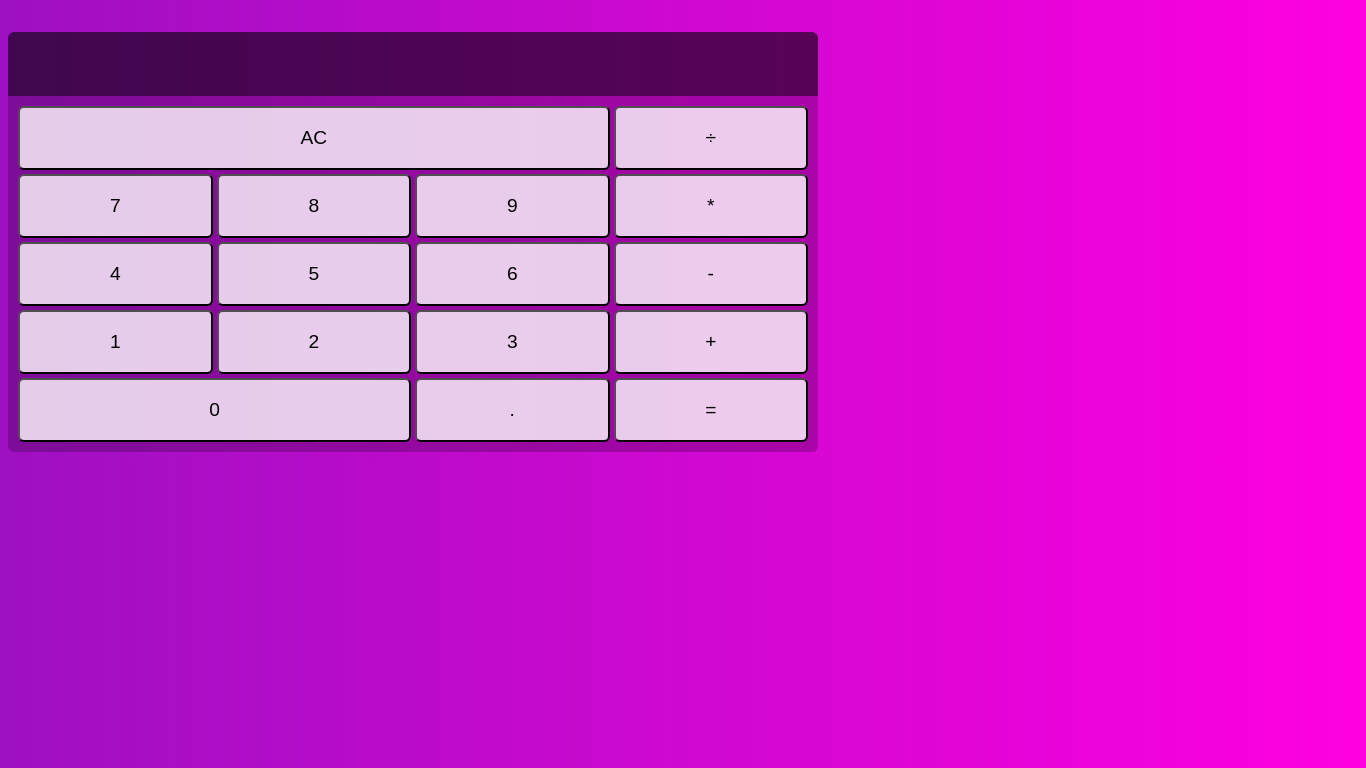
Calculator › selects the chosen function
Click the button "1". click: click(115, 342)
box: [18,310,212,374]
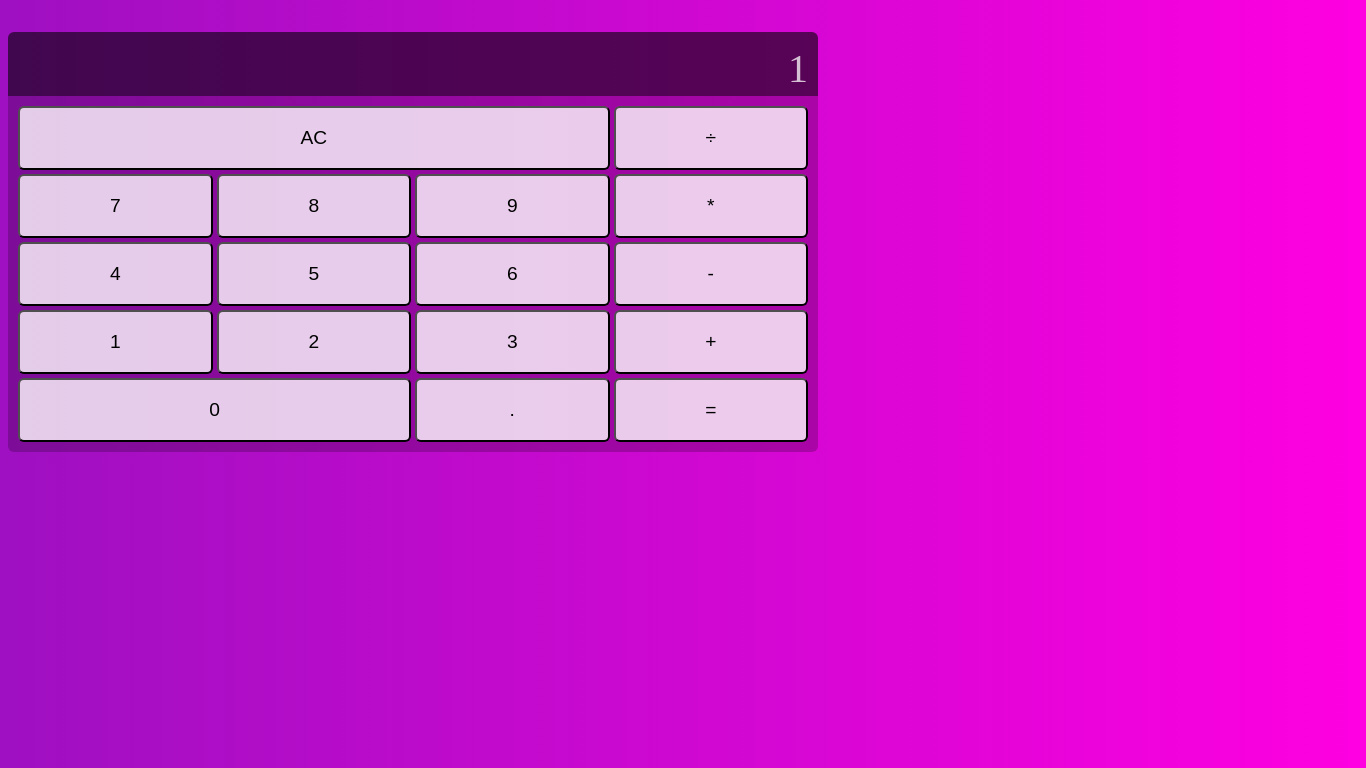
Click the button "+". click: click(711, 342)
box: [614,310,808,374]
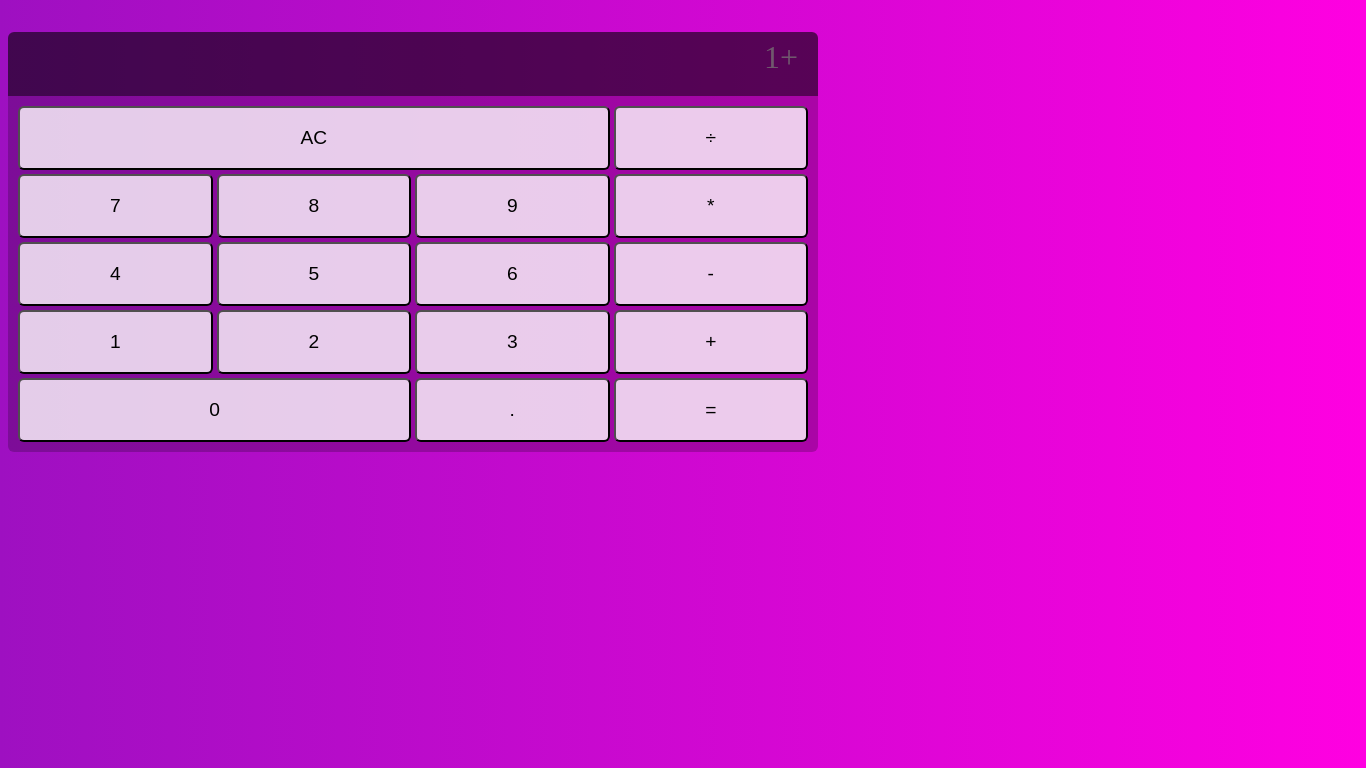
Click the button "1". click: click(115, 342)
box: [18,310,212,374]
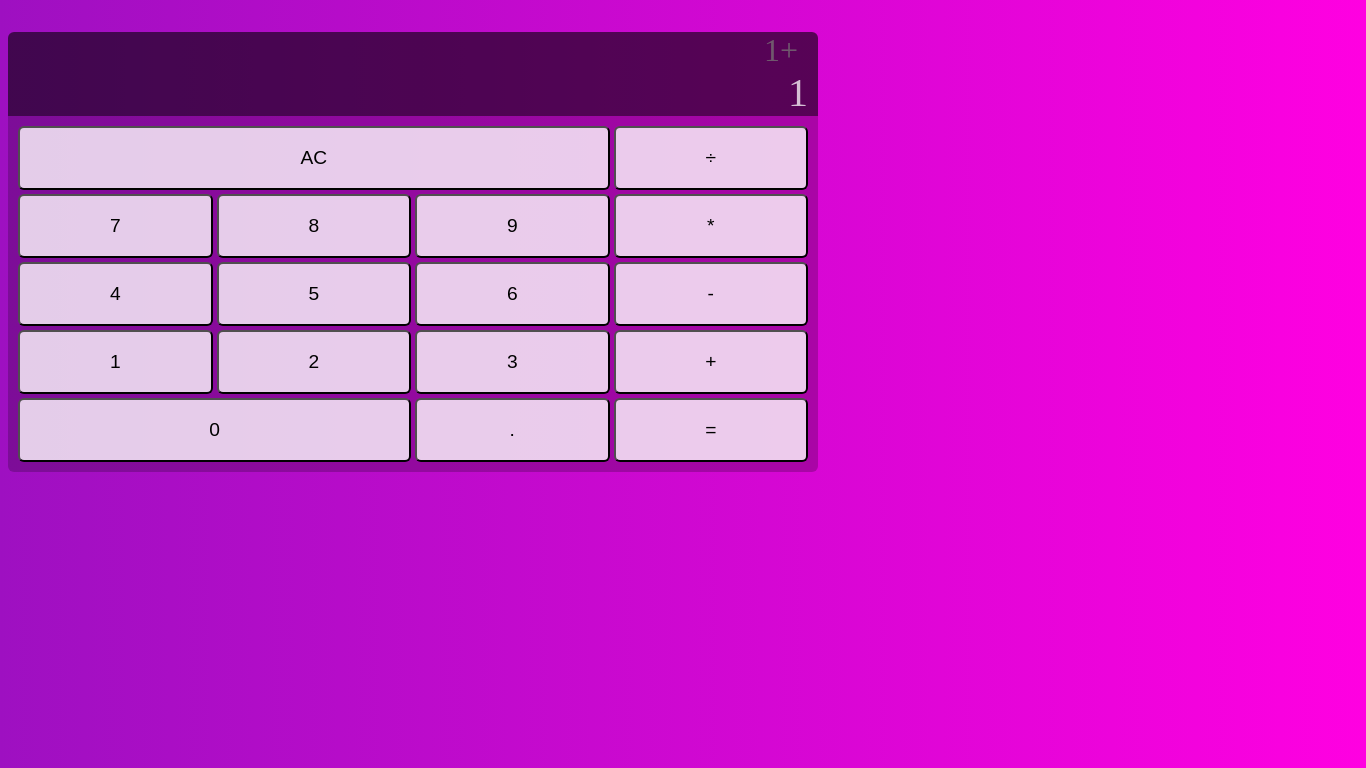
Expected: the text "1+" is shown, [764,32,798,68]
Expected: the text "1" is shown, [788,70,808,115]
